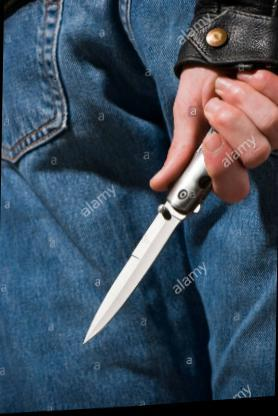knife: (74, 88, 272, 356)
